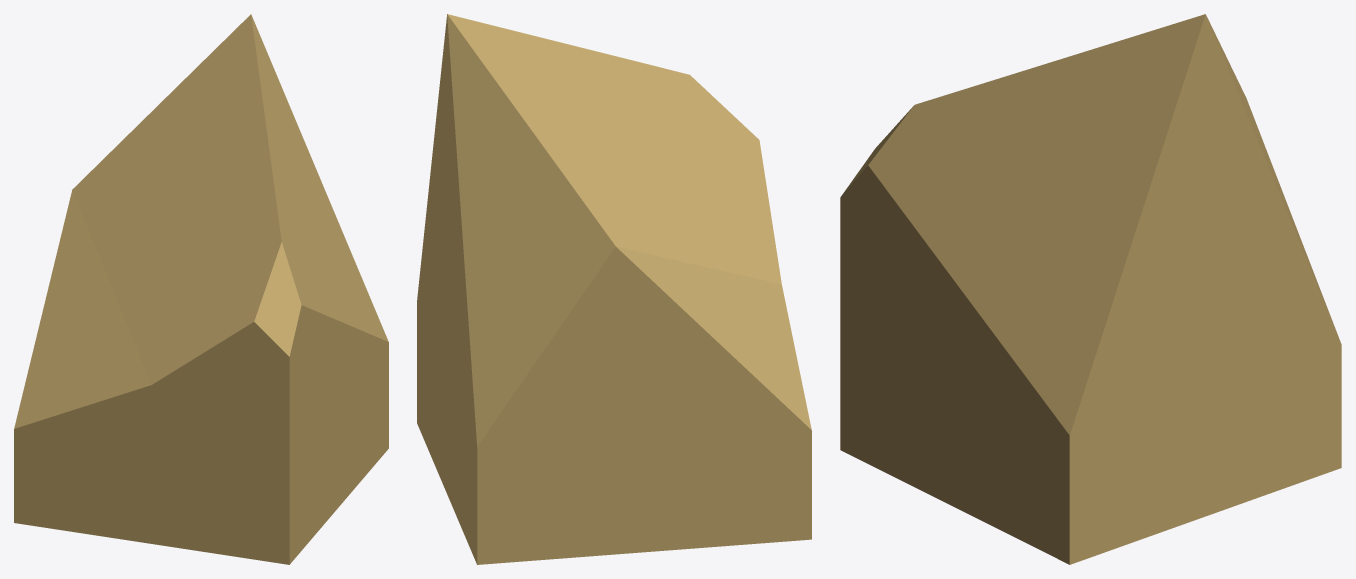
Rendered from desertHazardRock.fbx.
3 views of the same model, side by side, from view 1: azimuth 30°, elevation 25°; view 2: azimuth 150°, elevation 25°; view 3: azimuth 270°, elevation 25° (orthographic). The views are drawn at different scales.
Parts seen in each view (by area): view 1: Cube.008; view 2: Cube.008; view 3: Cube.008.
Boxes of the visible parts, x1=… form: Cube.008: x1=14, y1=14, x2=388, y2=564; Cube.008: x1=417, y1=14, x2=811, y2=564; Cube.008: x1=840, y1=14, x2=1341, y2=564.
Size of the model in its own units: 218 by 241 by 218.
